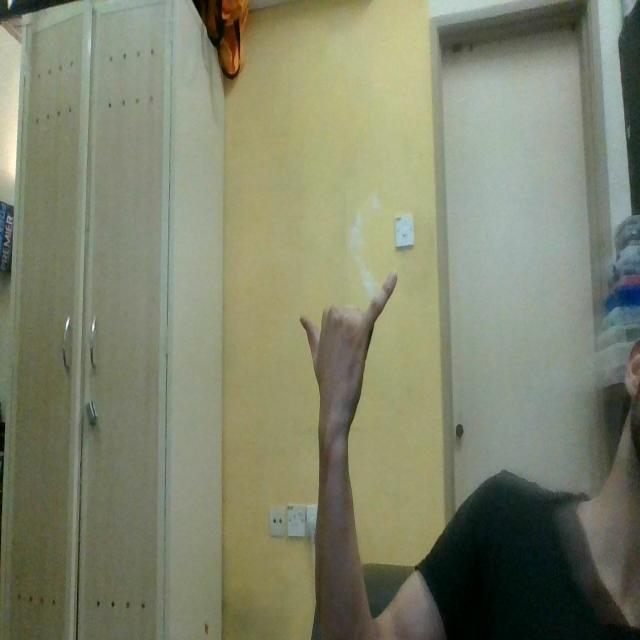shaka: (298, 269, 403, 435)
